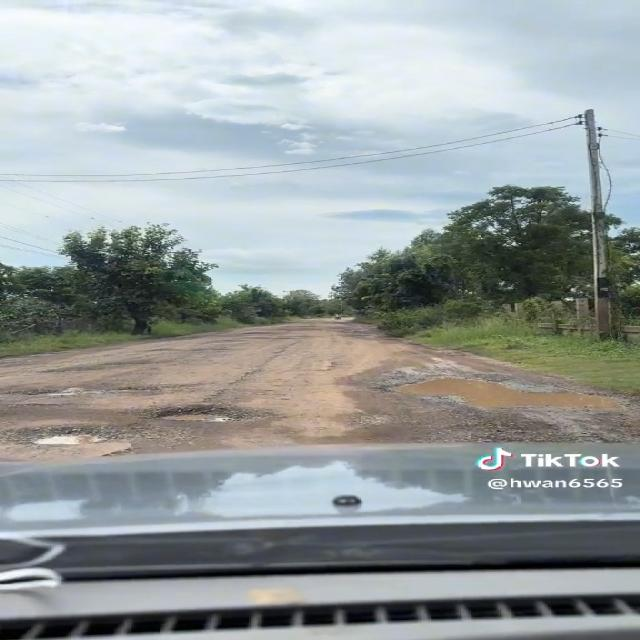Poth-hole: (221, 354, 311, 394)
